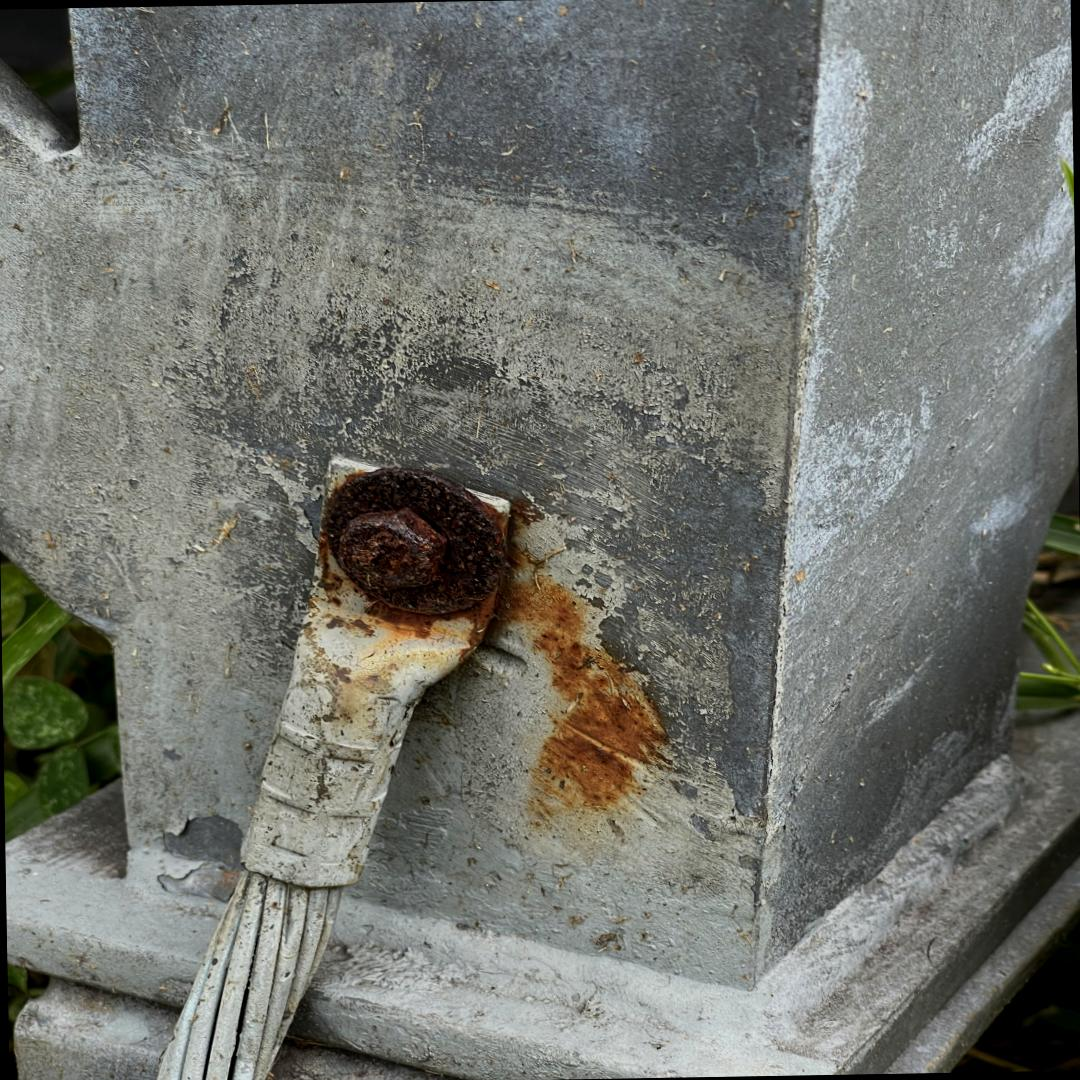Metal: (0, 0, 1080, 1080)
Metal corroido: (303, 459, 685, 842)
